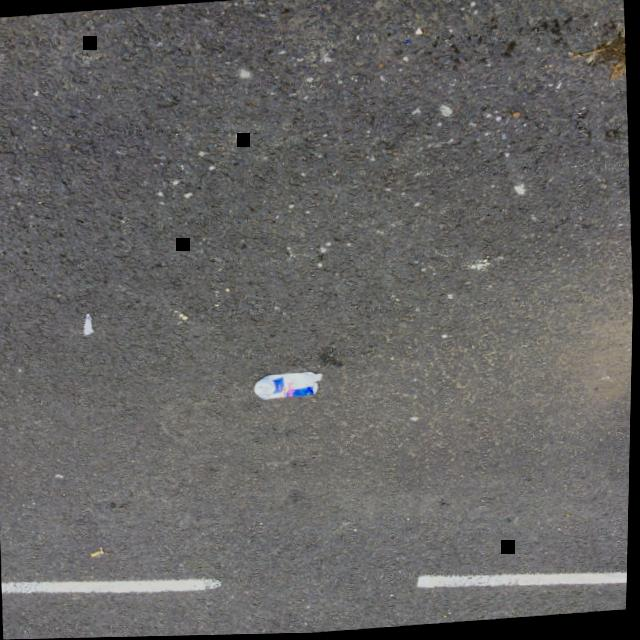Drink can: (255, 372, 324, 400)
Unlabeled litter: (85, 313, 95, 335)
